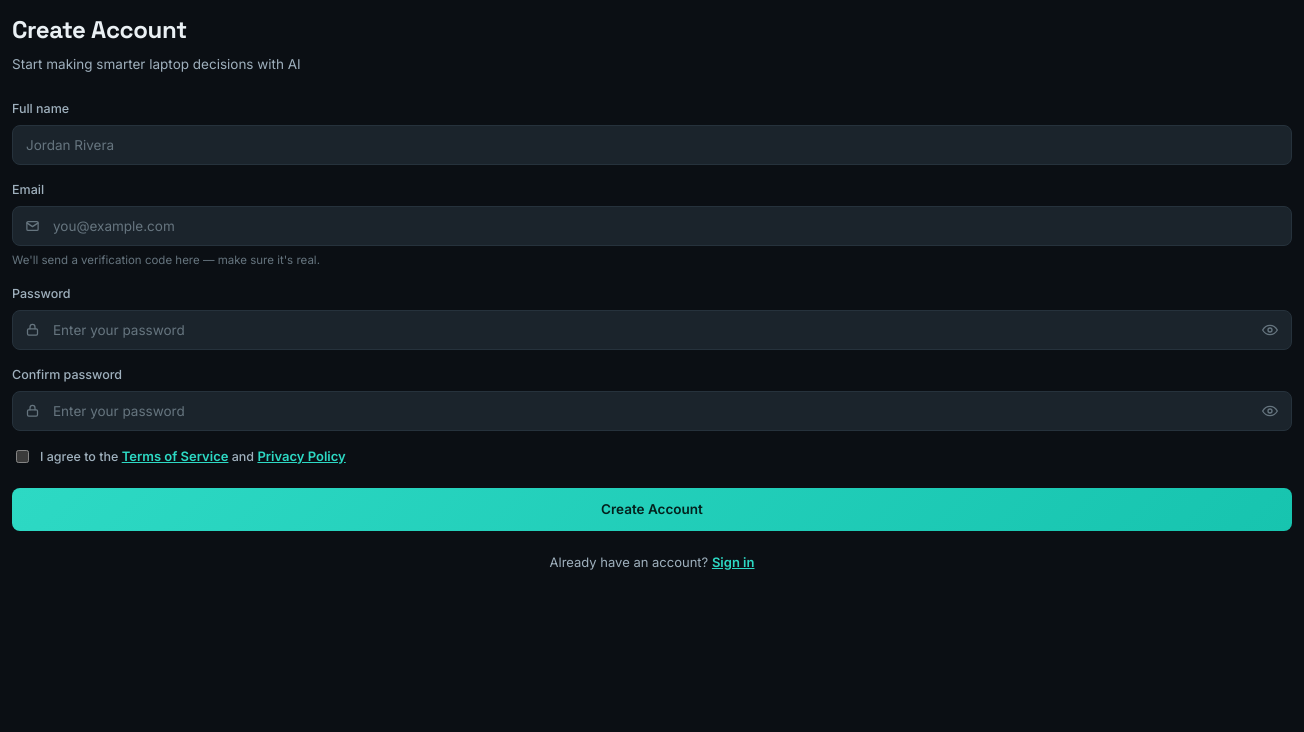
Test case: RegisterForm — two-step email OTP verification › shows an error and does not navigate when the OTP is rejected
Type "Alice Rivera" into the field labelled "Full name". click: (652, 145)
box: [12,125,1292,165]
Type "alice@example.com" into the field labelled "Email". click: (652, 226)
box: [12,206,1292,246]
Type "StrongPass1" into the password field labelled "Password". click: (652, 330)
box: [12,310,1292,350]
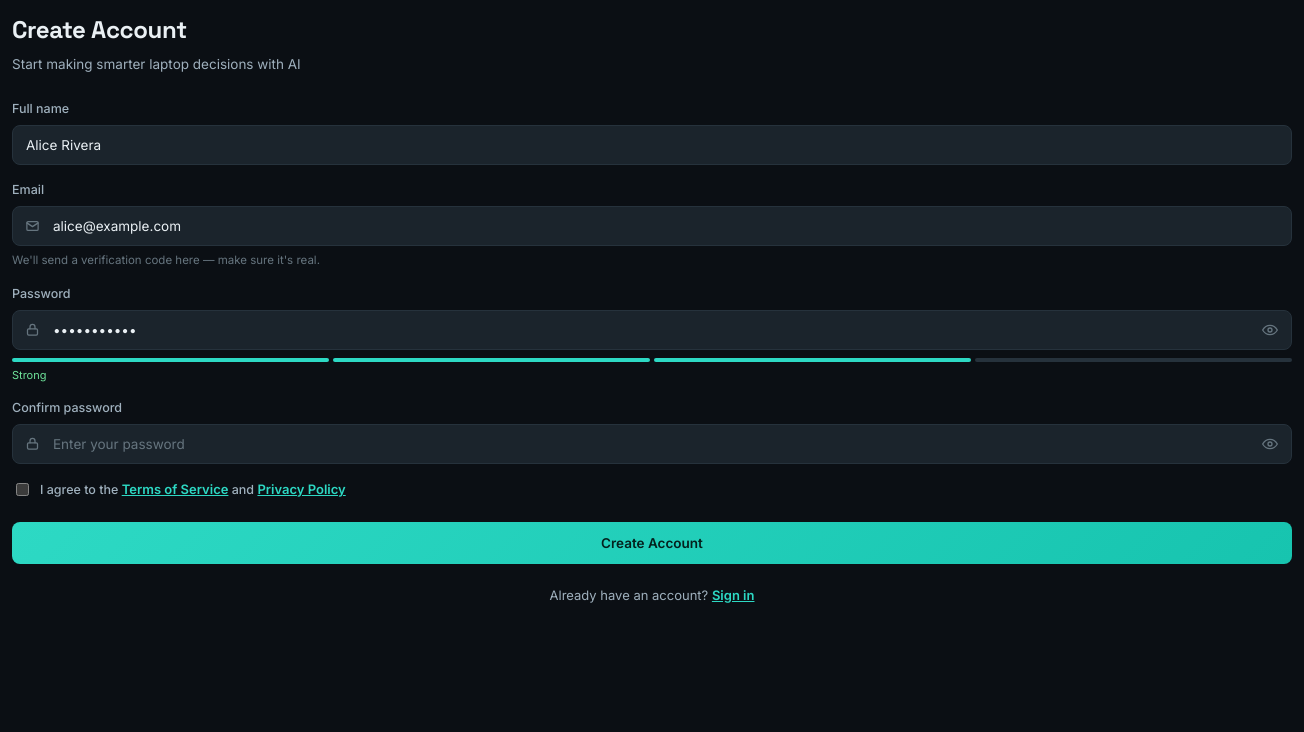
Type "StrongPass1" into the password field labelled "Confirm password". click: (652, 444)
box: [12,424,1292,464]
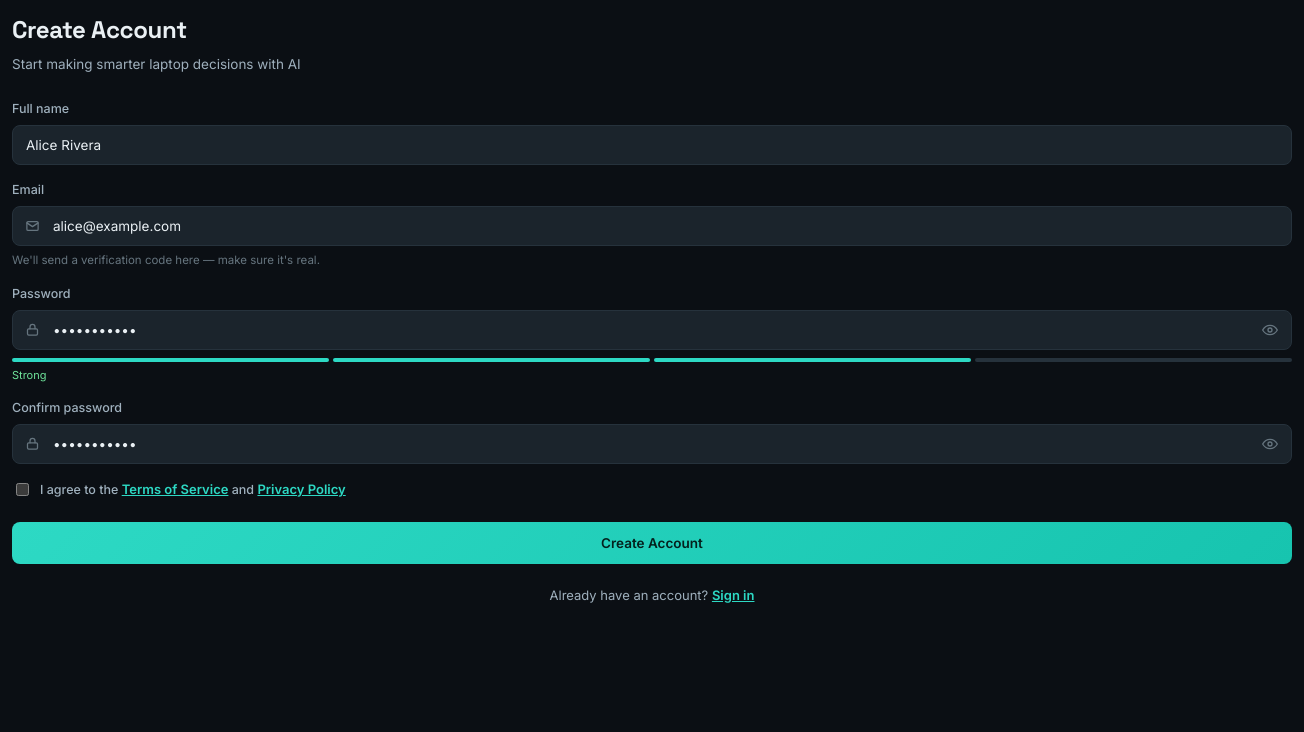
Click the checkbox labelled "I agree to the Terms of Service and Privacy Policy". click: (22, 490)
box: [16,483,29,496]
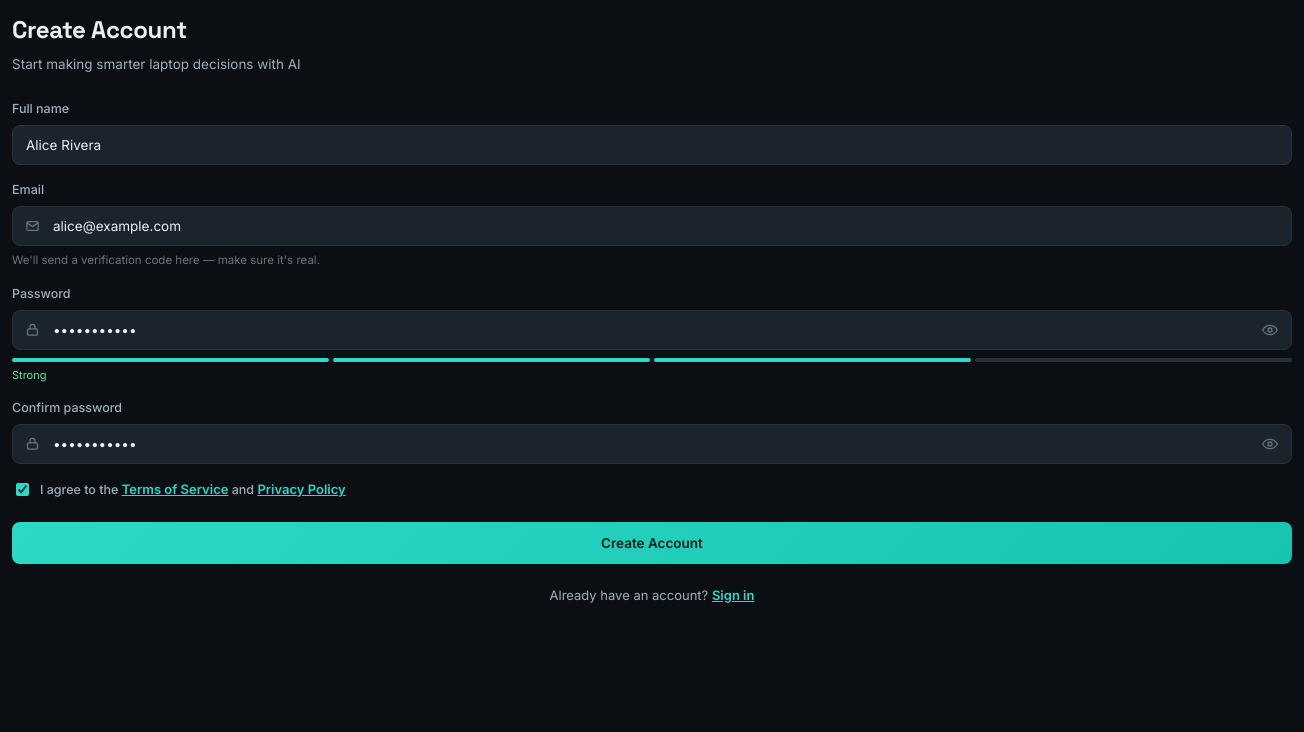
Click the button "Create Account". click: (652, 543)
box: [12,522,1292,564]
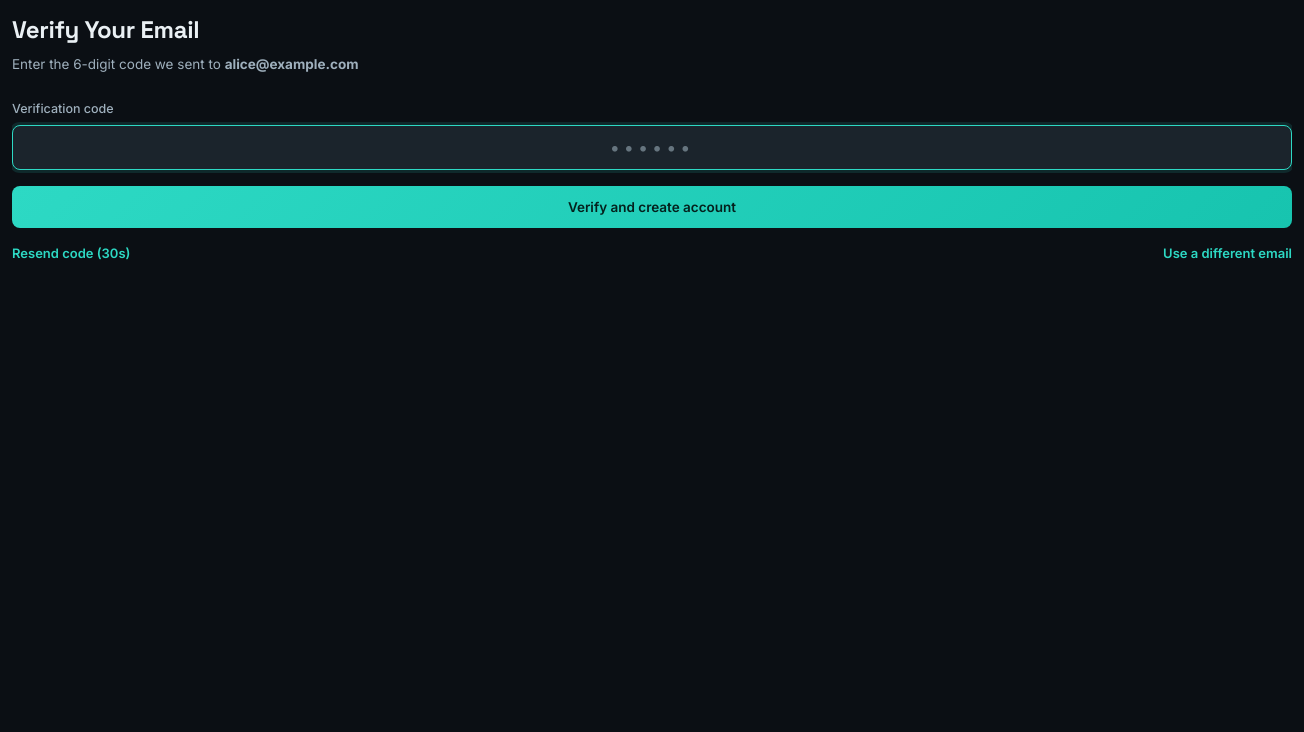
Expected: the field labelled "Verification code" is shown
Type "000000" into the field labelled "Verification code". click: (652, 148)
box: [12,125,1292,170]
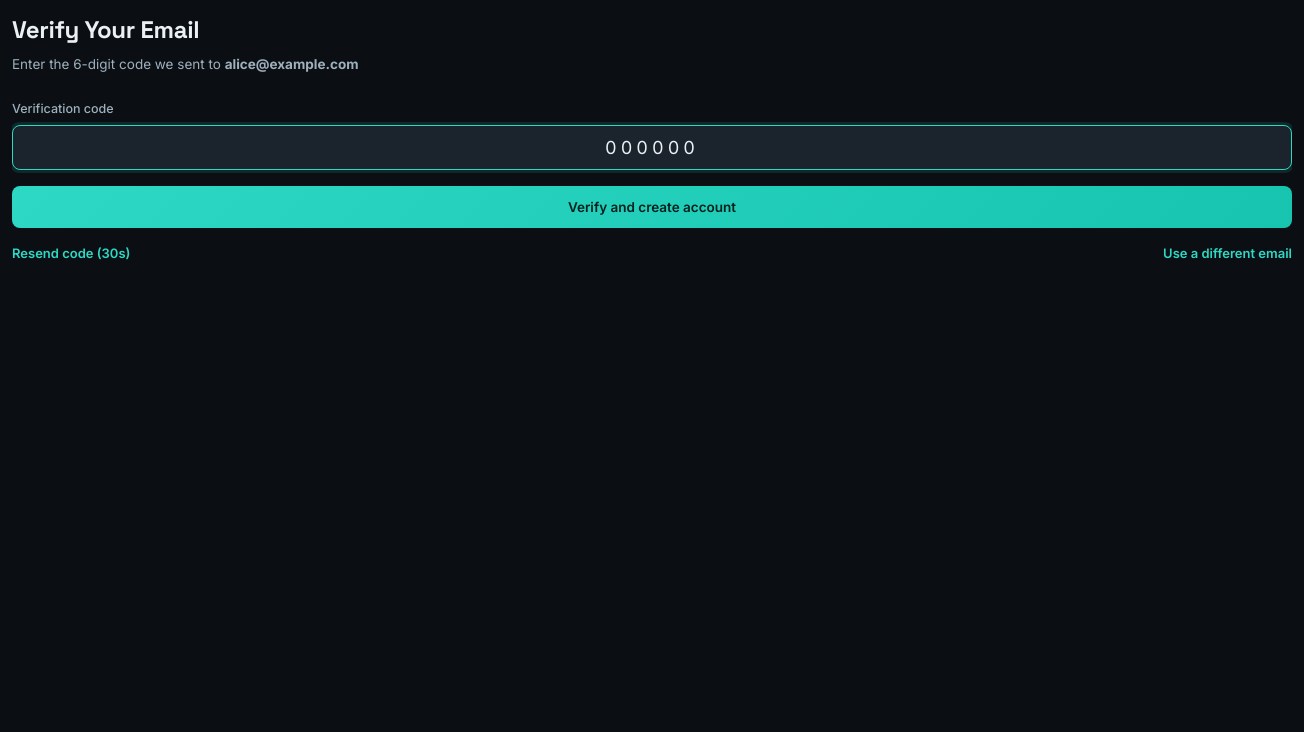
Click the button "Verify and create account". click: (652, 207)
box: [12,186,1292,228]
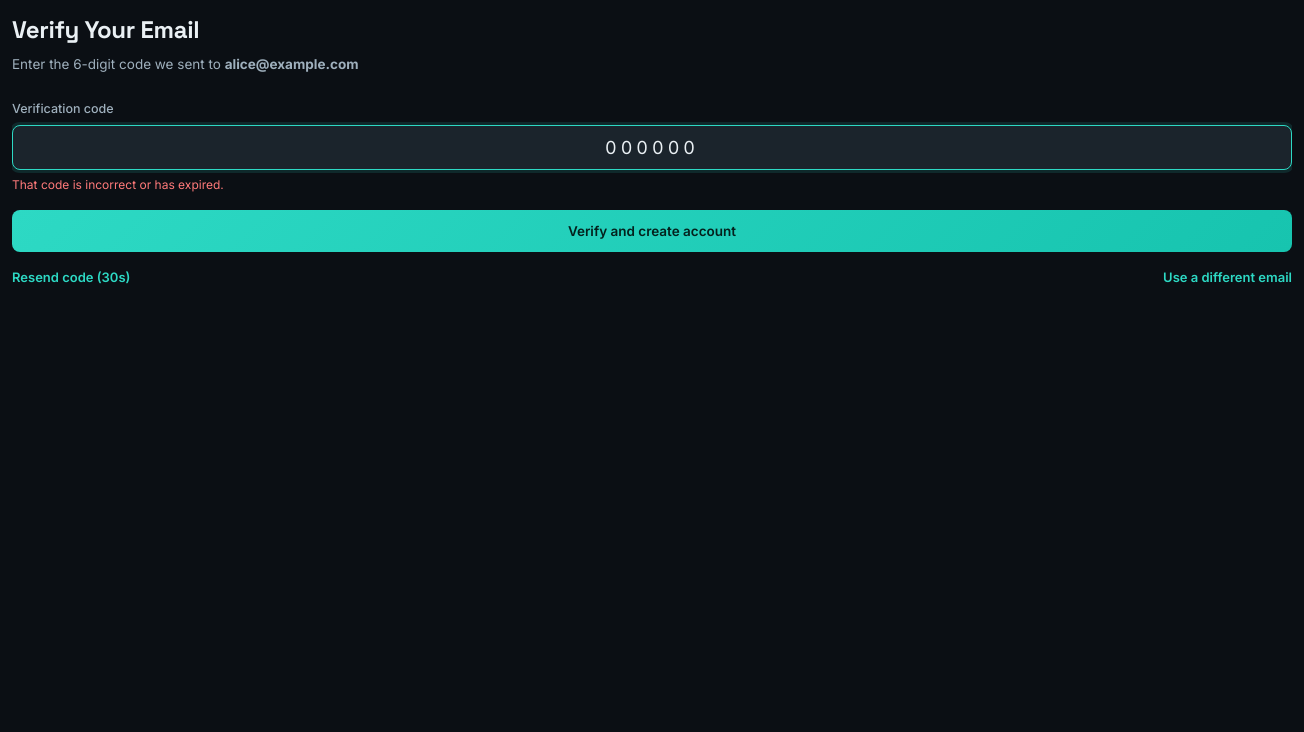
Expected: the message shows "incorrect or has expired", [12,177,224,192]
